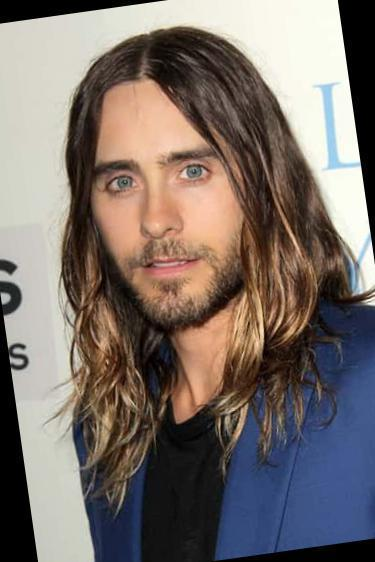Sober: (90, 97, 253, 310)
